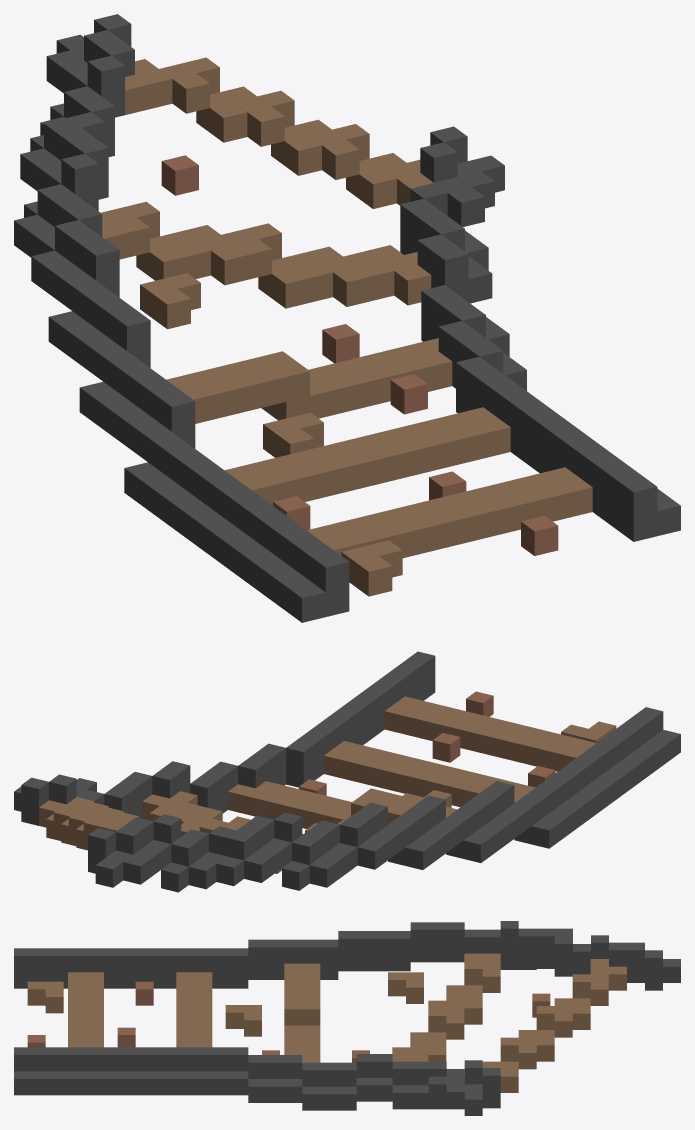
File: RailCurve0000.fbx
The picture shows the model from 3 angles, top to bottom: view 1: azimuth 30°, elevation 25°; view 2: azimuth 150°, elevation 25°; view 3: azimuth 270°, elevation 25°; orthographic projection. The views are drawn at different scales.
Parts seen in each view (by area): view 1: Connectors, Cube, Rails; view 2: Cube, Connectors, Rails; view 3: Cube, Connectors, Rails.
Part boxes in pixels (x1,y1,x2,y2): Connectors: (101, 57, 592, 596); Cube: (14, 14, 560, 552); Rails: (206, 416, 680, 622); Cube: (14, 703, 609, 892); Connectors: (39, 691, 616, 873); Rails: (347, 651, 680, 803); Cube: (140, 921, 680, 1115); Connectors: (27, 953, 626, 1092); Rails: (14, 948, 140, 1095).
Size of the model in its own units: 230 by 70 by 370.
